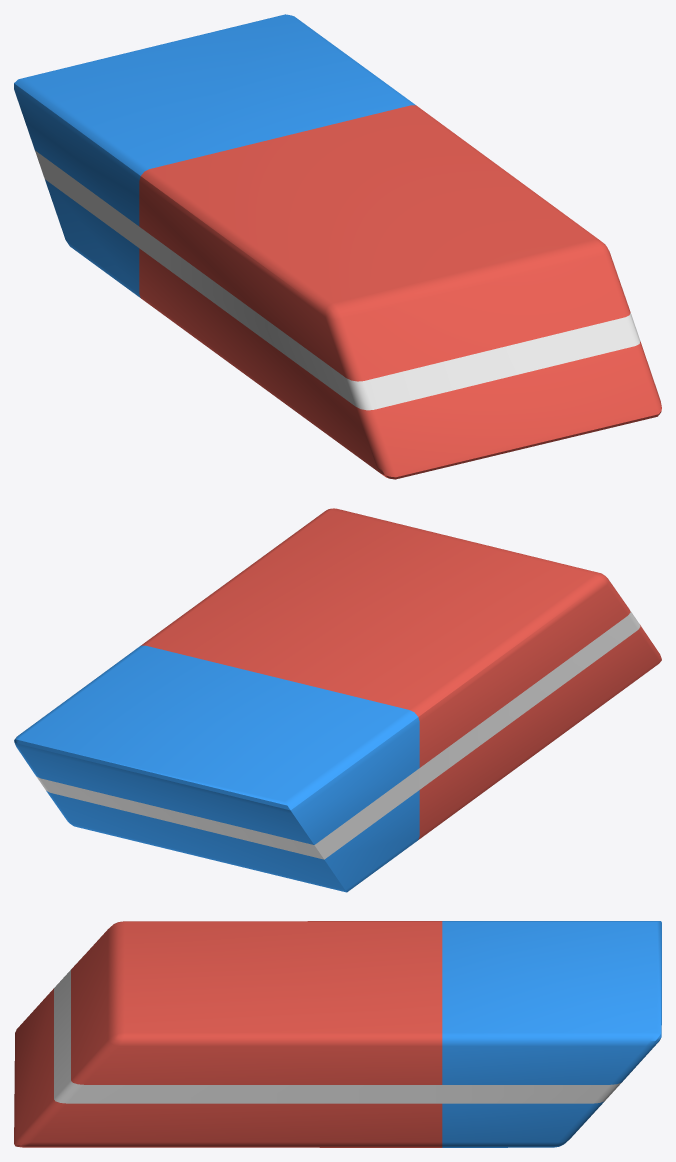
Rendered from eraser.fbx.
The picture shows the model from 3 angles, top to bottom: view 1: azimuth 30°, elevation 25°; view 2: azimuth 150°, elevation 25°; view 3: azimuth 270°, elevation 25°; orthographic projection. The views are drawn at different scales.
Visible parts, largest first — view 1: Cube.020; view 2: Cube.020; view 3: Cube.020.
Part boxes in pixels (left/top/right/bottom): Cube.020: left=14, top=14, right=661, bottom=479; Cube.020: left=14, top=508, right=661, bottom=892; Cube.020: left=14, top=921, right=661, bottom=1147.
Bounding box in the file's own units: 249 × 111 × 572.
